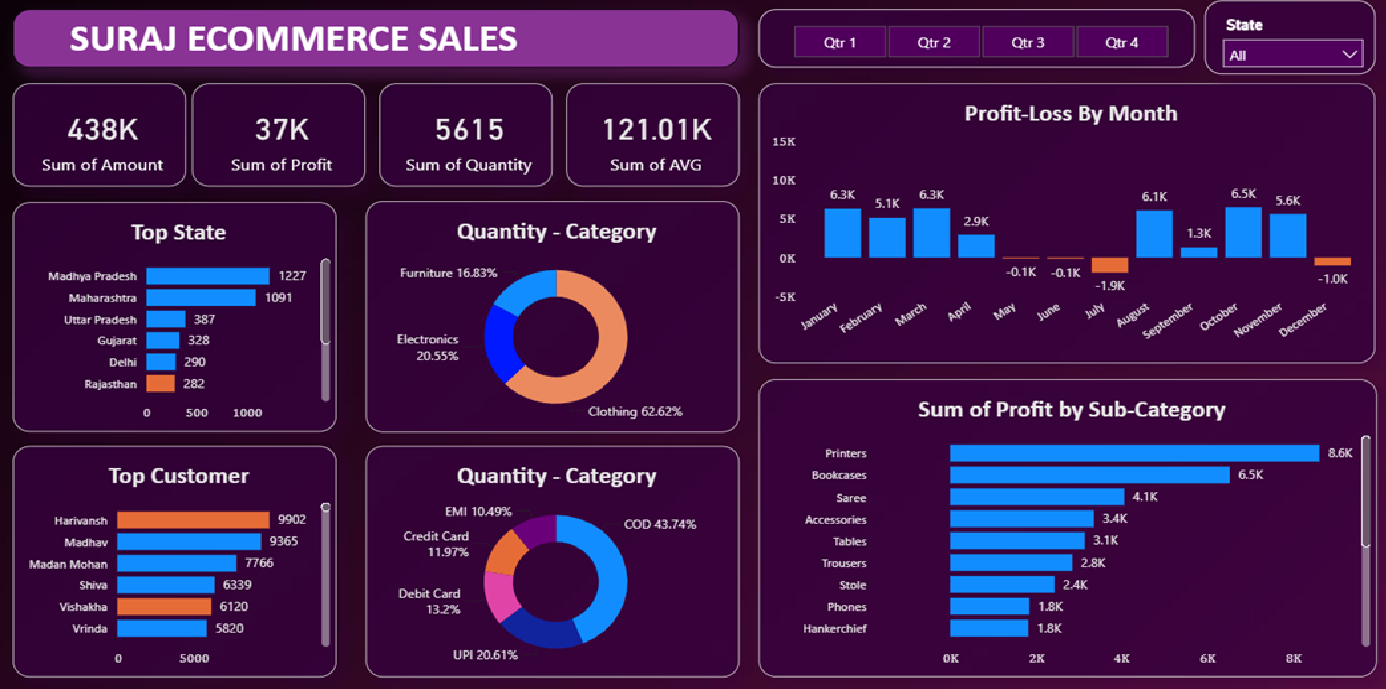

Layout of this report page (visuals, bound fields, positions):
{"tool":"powerbi","page":{"name":"Page 1","canvas":[1280,720],"ordinal":0},"visuals":[{"type":"textbox","box":[15.1,11,666.9,57.6],"z":0},{"type":"columnChart","title":"Profit-Loss By Month","fields":{"Category":["Orders.Order Date.Variation.Date Hierarchy.Month"],"Y":["Sum(Details.Profit)"]},"box":[699.8,83.7,566.7,275.8],"z":1000},{"type":"clusteredBarChart","fields":{"Category":["Details.Sub-Category"],"Y":["Sum(Details.Profit)"]},"box":[699.8,376,568.1,293.7],"z":2000},{"type":"donutChart","title":"Quantity - Category","fields":{"Category":["Details.Category"],"Y":["Sum(Details.Quantity)"]},"box":[338.9,200.3,343.1,227.8],"z":3000},{"type":"donutChart","title":"Quantity - Category","fields":{"Y":["Sum(Details.Quantity)"],"Category":["Details.PaymentMode"]},"box":[338.9,441.9,343.1,227.8],"z":4000},{"type":"clusteredBarChart","title":"Top State","fields":{"Y":["Sum(Details.Quantity)"],"Category":["Orders.State"]},"box":[15.1,201.7,297.8,226.4],"z":5000},{"type":"barChart","title":"Top Customer","fields":{"Category":["Orders.CustomerName"],"Y":["Sum(Details.Amount)"]},"box":[15.1,441.9,297.8,227.8],"z":6000},{"type":"card","fields":{"Values":["Sum(Details.Amount)"]},"box":[15.1,83.7,159.2,101.5],"z":7000},{"type":"card","fields":{"Values":["Sum(Details.Profit)"]},"box":[179.8,83.7,159.2,101.5],"z":8000},{"type":"card","fields":{"Values":["Sum(Details.Quantity)"]},"box":[351.3,83.7,159.2,101.5],"z":9000},{"type":"card","fields":{"Values":["Sum(Details.AVG)"]},"box":[522.8,83.7,159.2,101.5],"z":10000},{"type":"slicer","fields":{"Values":["Orders.Order Date.Variation.Date Hierarchy.Quarter"]},"box":[699.8,11,400.7,57.6],"z":11000},{"type":"slicer","fields":{"Values":["Orders.State"]},"box":[1110.1,2.7,156.4,72.7],"z":12000}]}

Visuals, with their boxes on the page's 1280x720 design canvas (x1, y1, x2, y2). These are canvas units, not pixel positions in the 1386x689 screenshot, which may show the page scaled, cropped or inside an application window:
textbox: detection(15, 11, 682, 69)
"Profit-Loss By Month" columnChart: detection(700, 84, 1266, 360)
clusteredBarChart - Details.Sub-Category x Sum(Details.Profit): detection(700, 376, 1268, 670)
"Quantity - Category" donutChart: detection(339, 200, 682, 428)
"Quantity - Category" donutChart: detection(339, 442, 682, 670)
"Top State" clusteredBarChart: detection(15, 202, 313, 428)
"Top Customer" barChart: detection(15, 442, 313, 670)
card - Sum(Details.Amount): detection(15, 84, 174, 185)
card - Sum(Details.Profit): detection(180, 84, 339, 185)
card - Sum(Details.Quantity): detection(351, 84, 510, 185)
card - Sum(Details.AVG): detection(523, 84, 682, 185)
slicer - Orders.Order Date.Variation.Date Hierarchy.Quarter: detection(700, 11, 1100, 69)
slicer - Orders.State: detection(1110, 3, 1266, 75)
